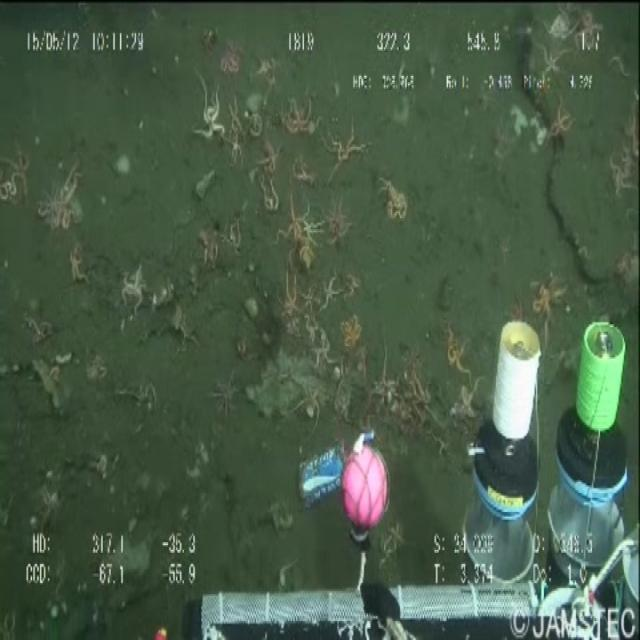Litter: (284, 446, 354, 530)
Natual-Debris: (192, 61, 378, 356), (380, 326, 460, 441), (47, 168, 84, 238), (116, 267, 152, 328), (0, 144, 32, 212)
